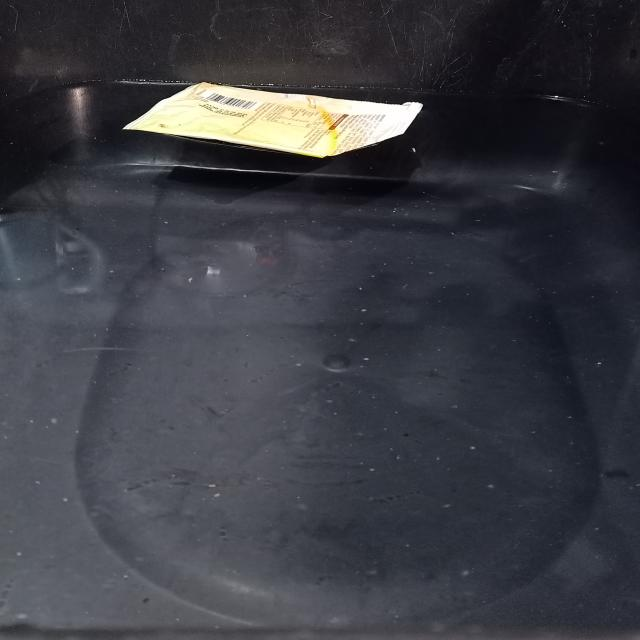Plastic Wrapper: (124, 82, 423, 158)
